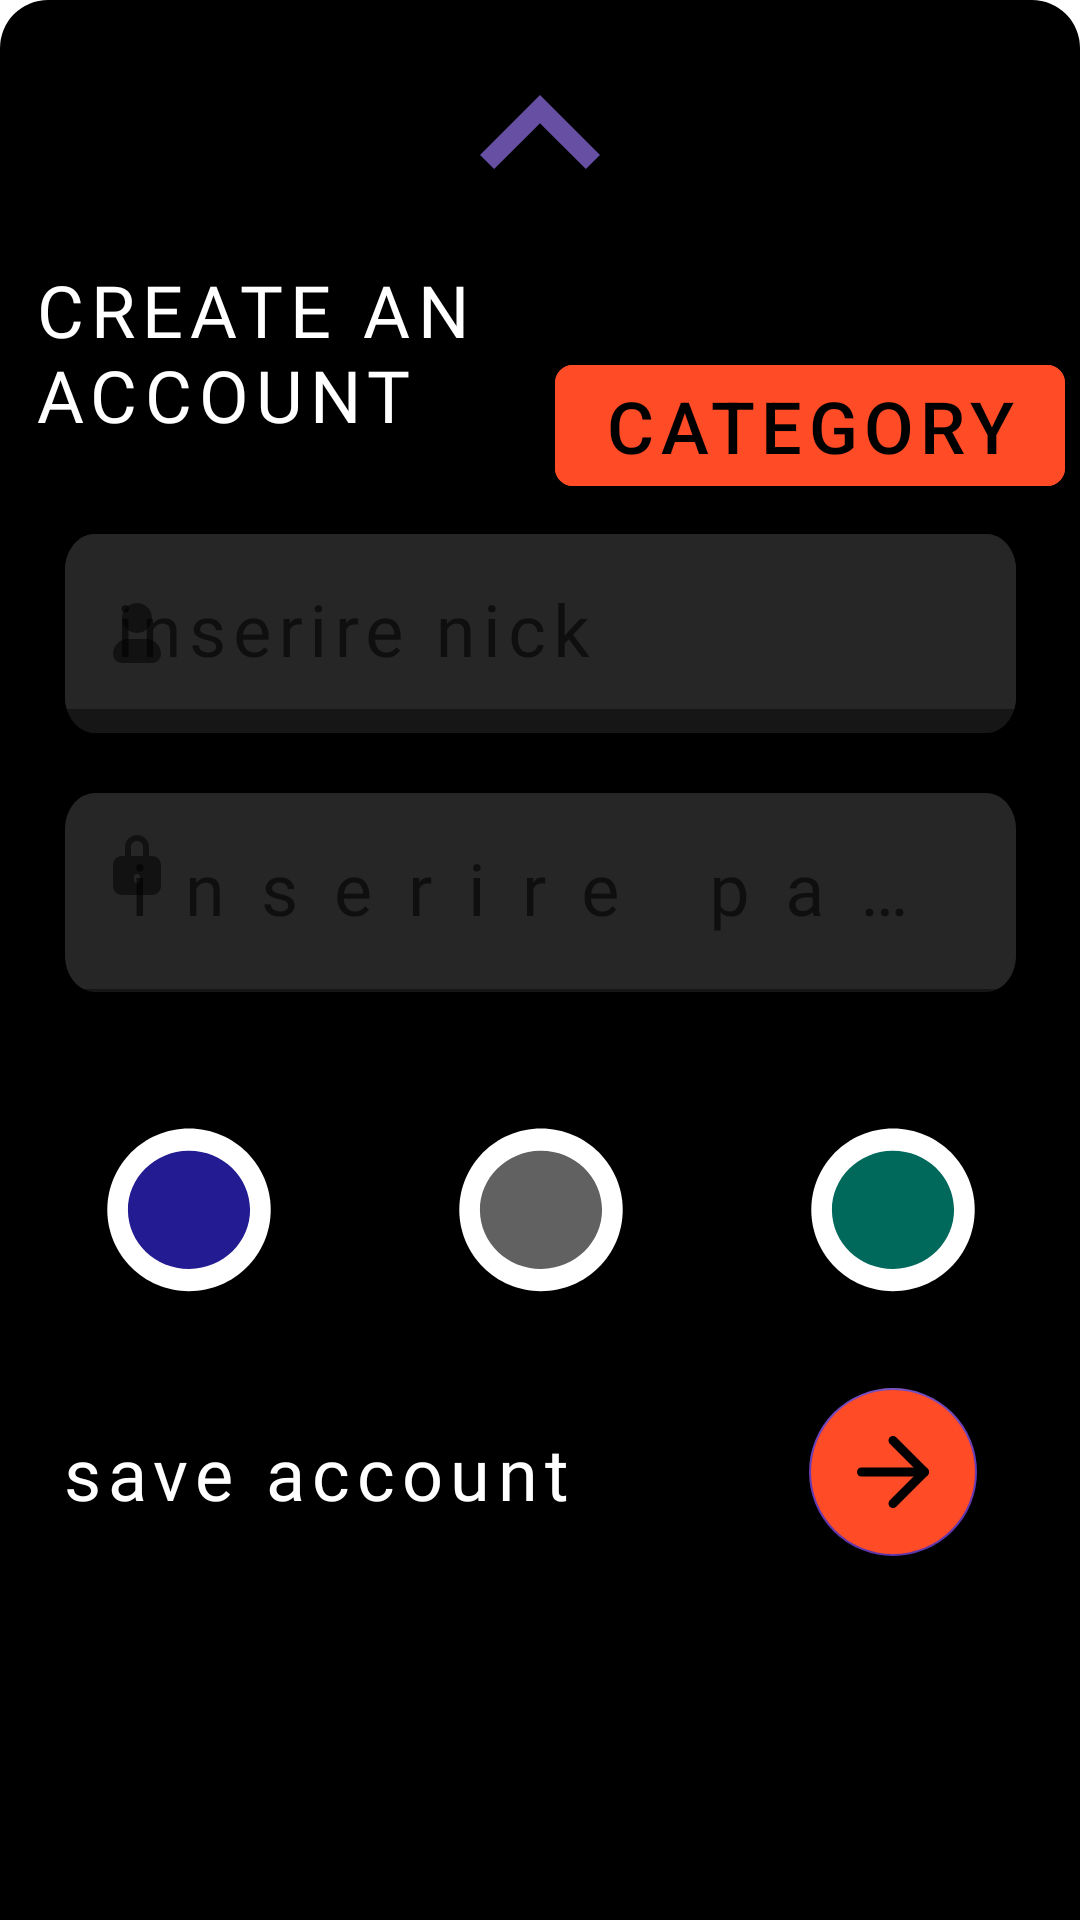

Named icons in this screenshot (1080px×1920px) and their bounding boxes, (x1, y1, x2, y2):
freccia: (809, 1388, 977, 1556)
keyboard arrow up: (480, 95, 600, 169)
